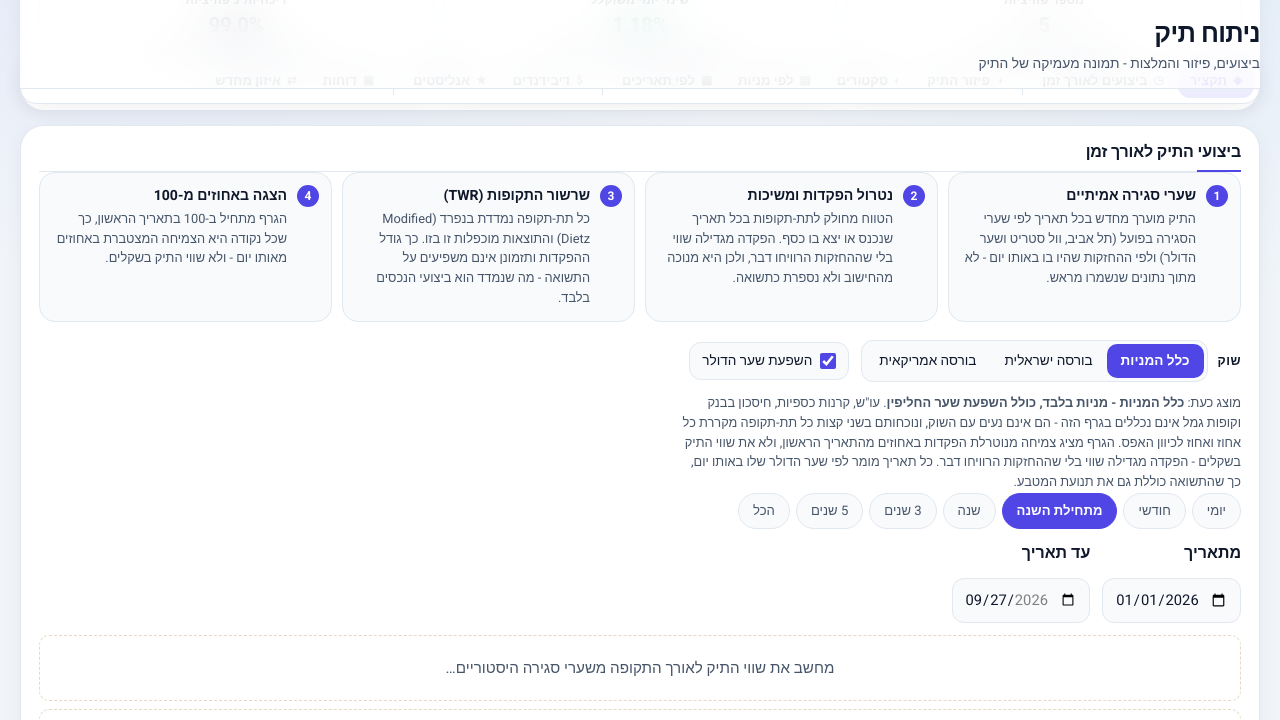
Scenario: PortfolioAnalysisView › market selection and the FX toggle › FX impact toggle › turning it off on the combined view isolates the stocks from the currency
This screenshot has width=1280, height=720.
(page scrolled)
What coordinates should you click on to do the following:
click the checkbox labelled "השפעת שער הדולר"
I would click on:
 (828, 361)
Its box is x1=820 y1=353 x2=836 y2=369.
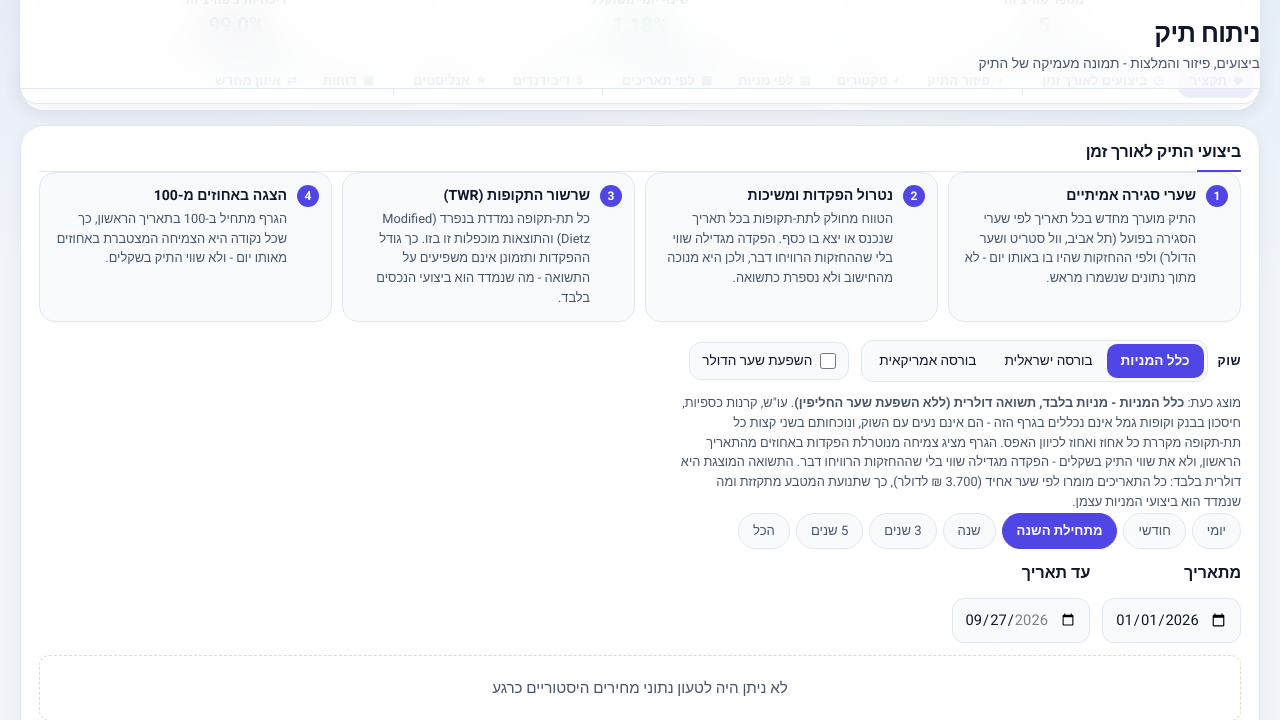
Check: the checkbox labelled "השפעת שער הדולר" is not checked, box x1=820 y1=353 x2=836 y2=369
Check: the element with class "segment-summary" shows "דולרית", box x1=794 y1=394 x2=1184 y2=412
